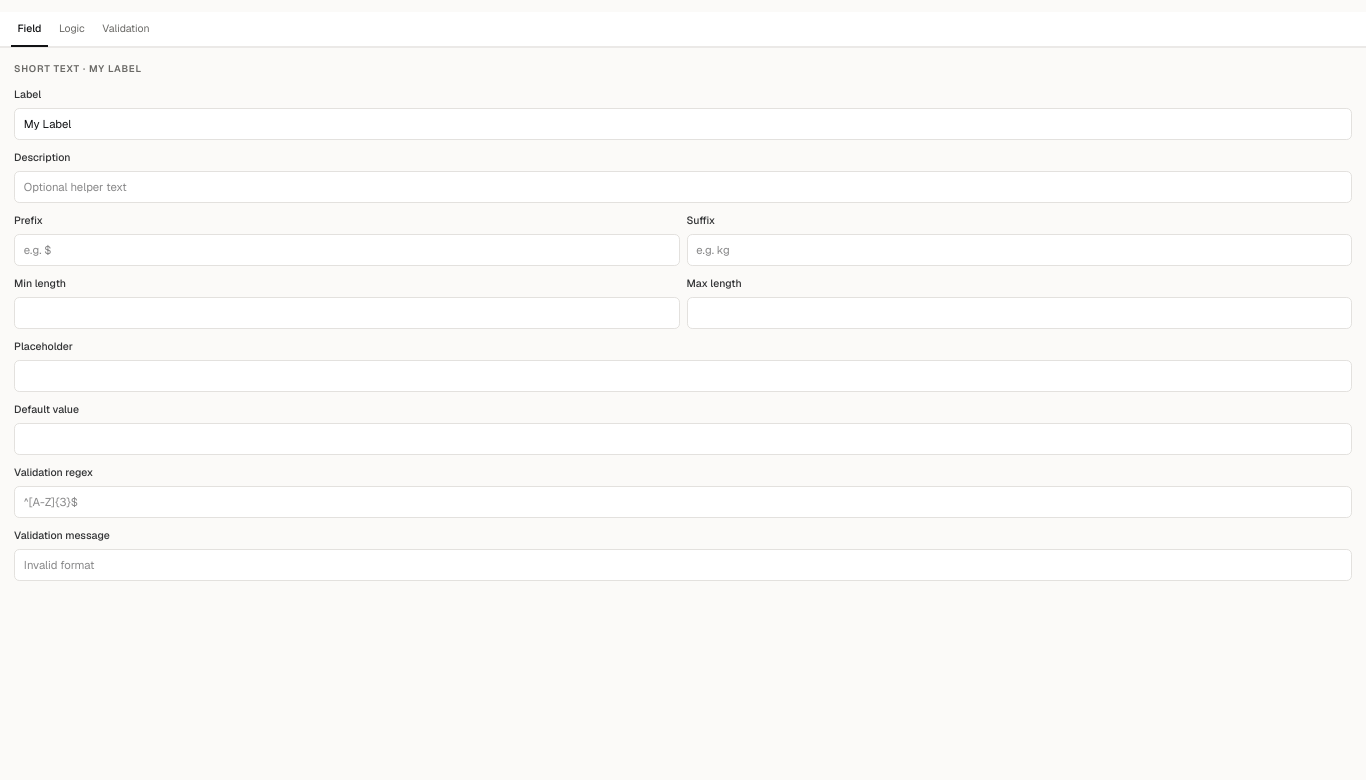
it: ConfigPanel › tabs › switches to Logic tab when clicked
The width and height of the screenshot is (1366, 780).
Click the button "Logic": (72, 30) [52, 12, 92, 47]
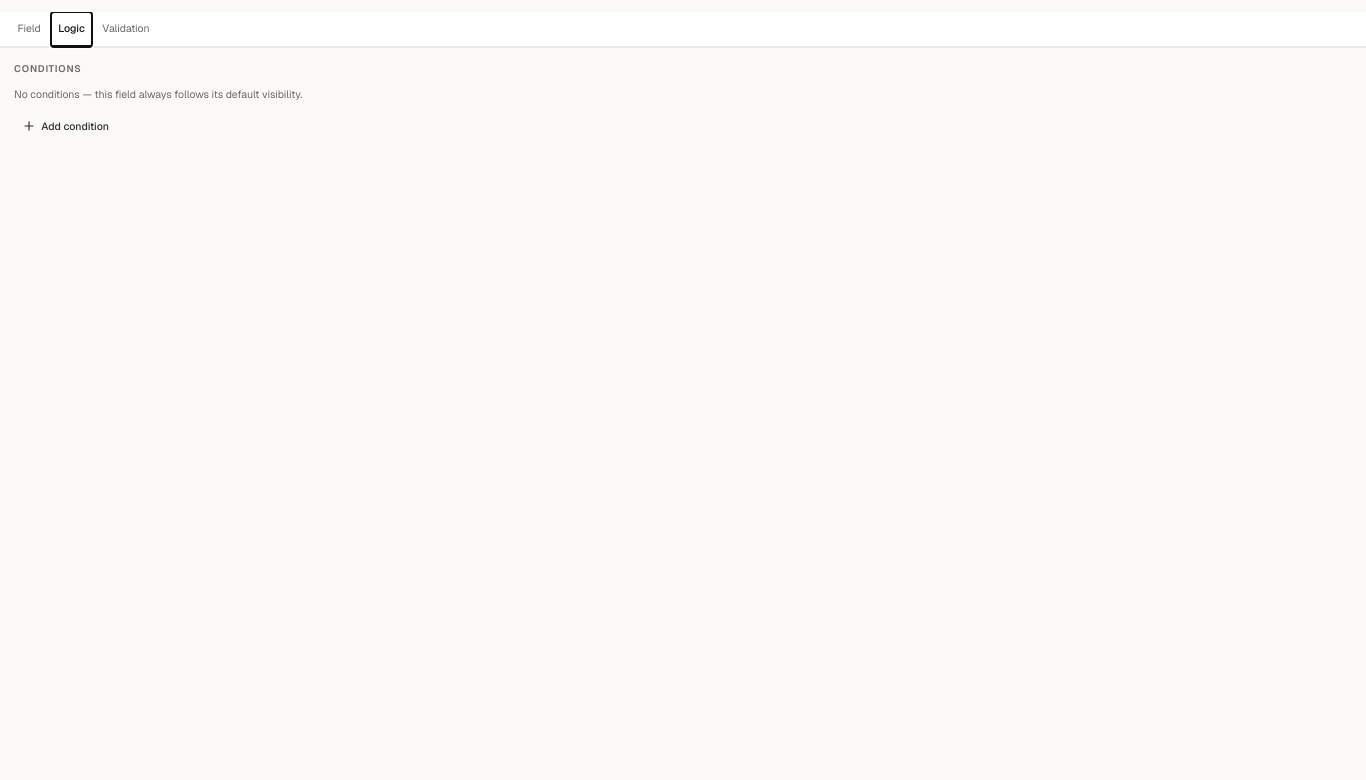
Check: the text "Conditions" is shown, box [14, 62, 81, 75]
